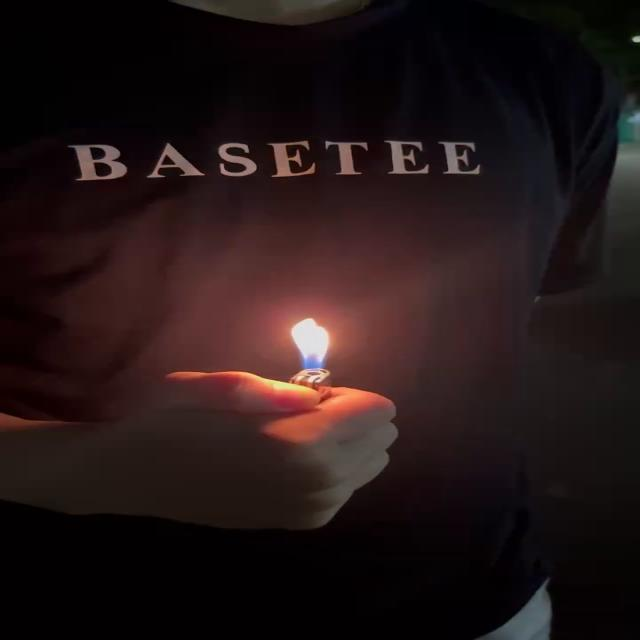Fire: (289, 318, 337, 380)
